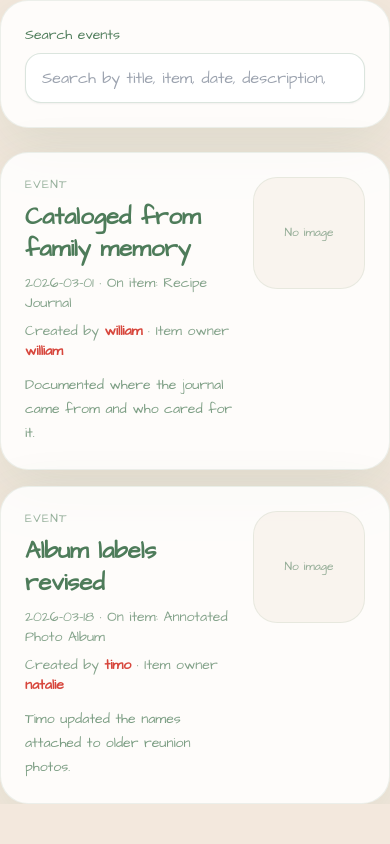
Test: EventsPageContent › filters events by title, linked item, date, description, and creator fields
In the search field labelled "Search events": (195, 78) [25,53,365,103], type "annotated photo album"
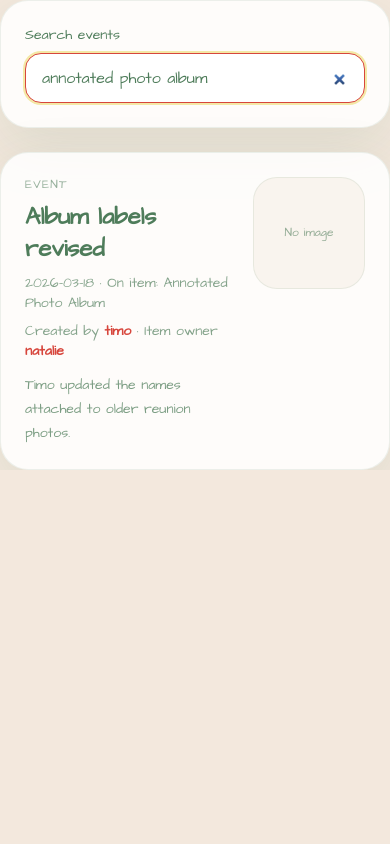
Expected: the link "Album labels revised" is shown, [25,200,156,266]
Expected: the link "Cataloged from family memory" is gone
Replace the text in the search field labelled "Search events" with "2026-03-01": (195, 78) [25,53,365,103]
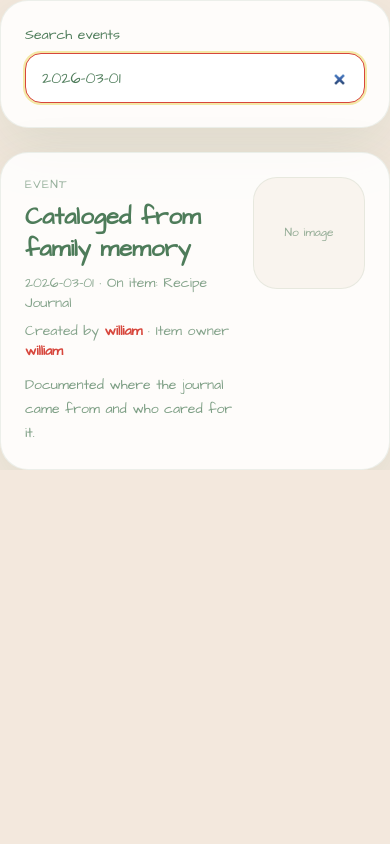
Expected: the link "Album labels revised" is not shown
Expected: the link "Cataloged from family memory" is shown, [25,200,200,266]
Replace the text in the search field labelled "Search events" with "timo": (195, 78) [25,53,365,103]
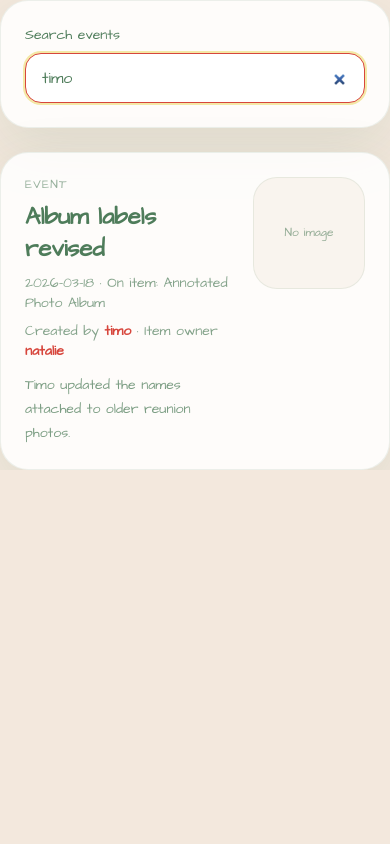
Expected: the link "Album labels revised" is shown, [25,200,156,266]
Expected: the link "Cataloged from family memory" is gone
